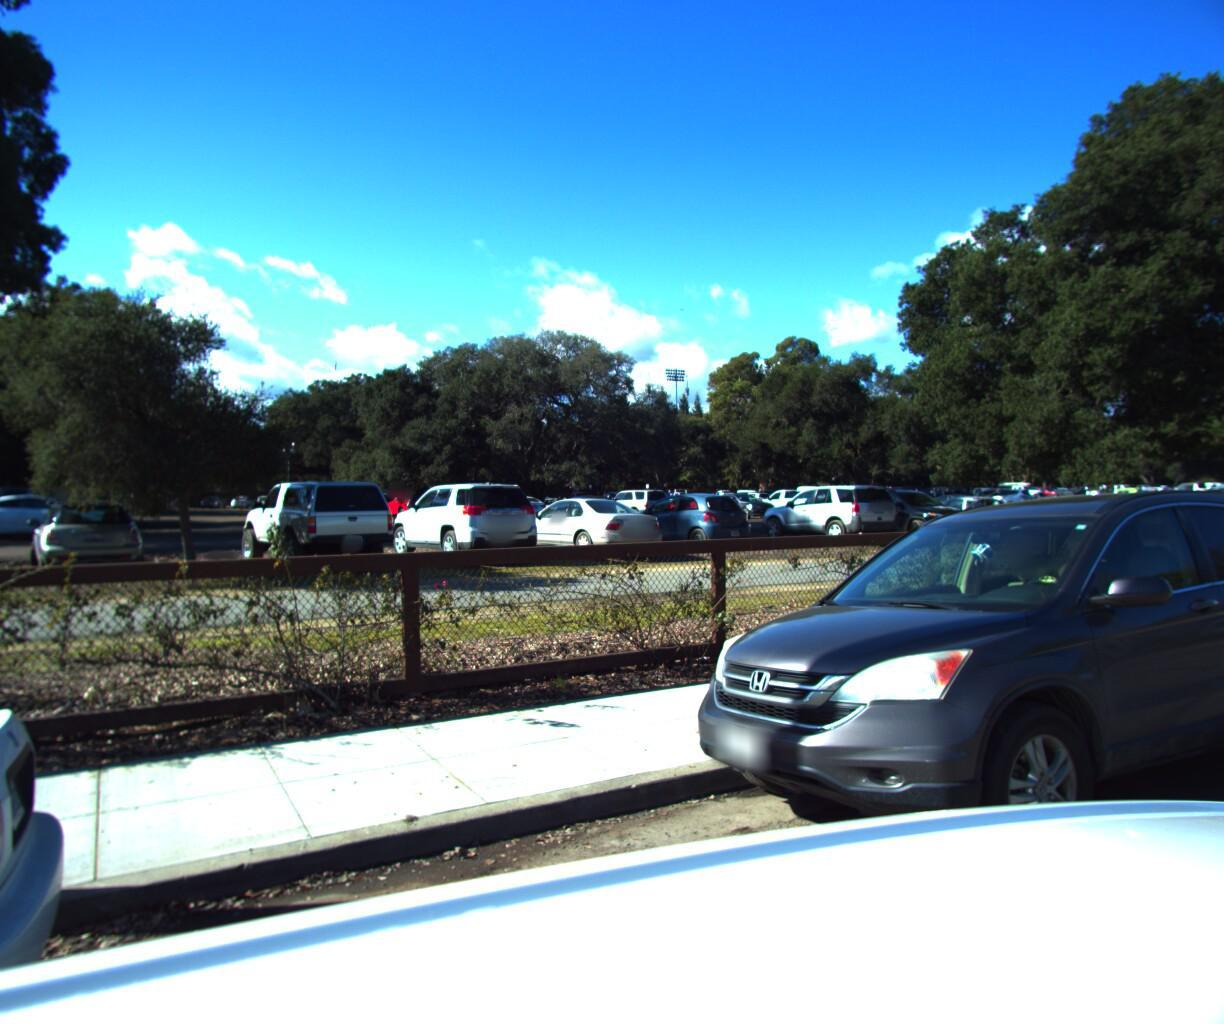car: (631, 479, 1224, 991), (234, 477, 414, 578), (387, 478, 559, 568), (497, 492, 686, 561), (1020, 487, 1217, 536), (1133, 479, 1224, 532)
other_vehicle: (1203, 251, 1224, 730)
